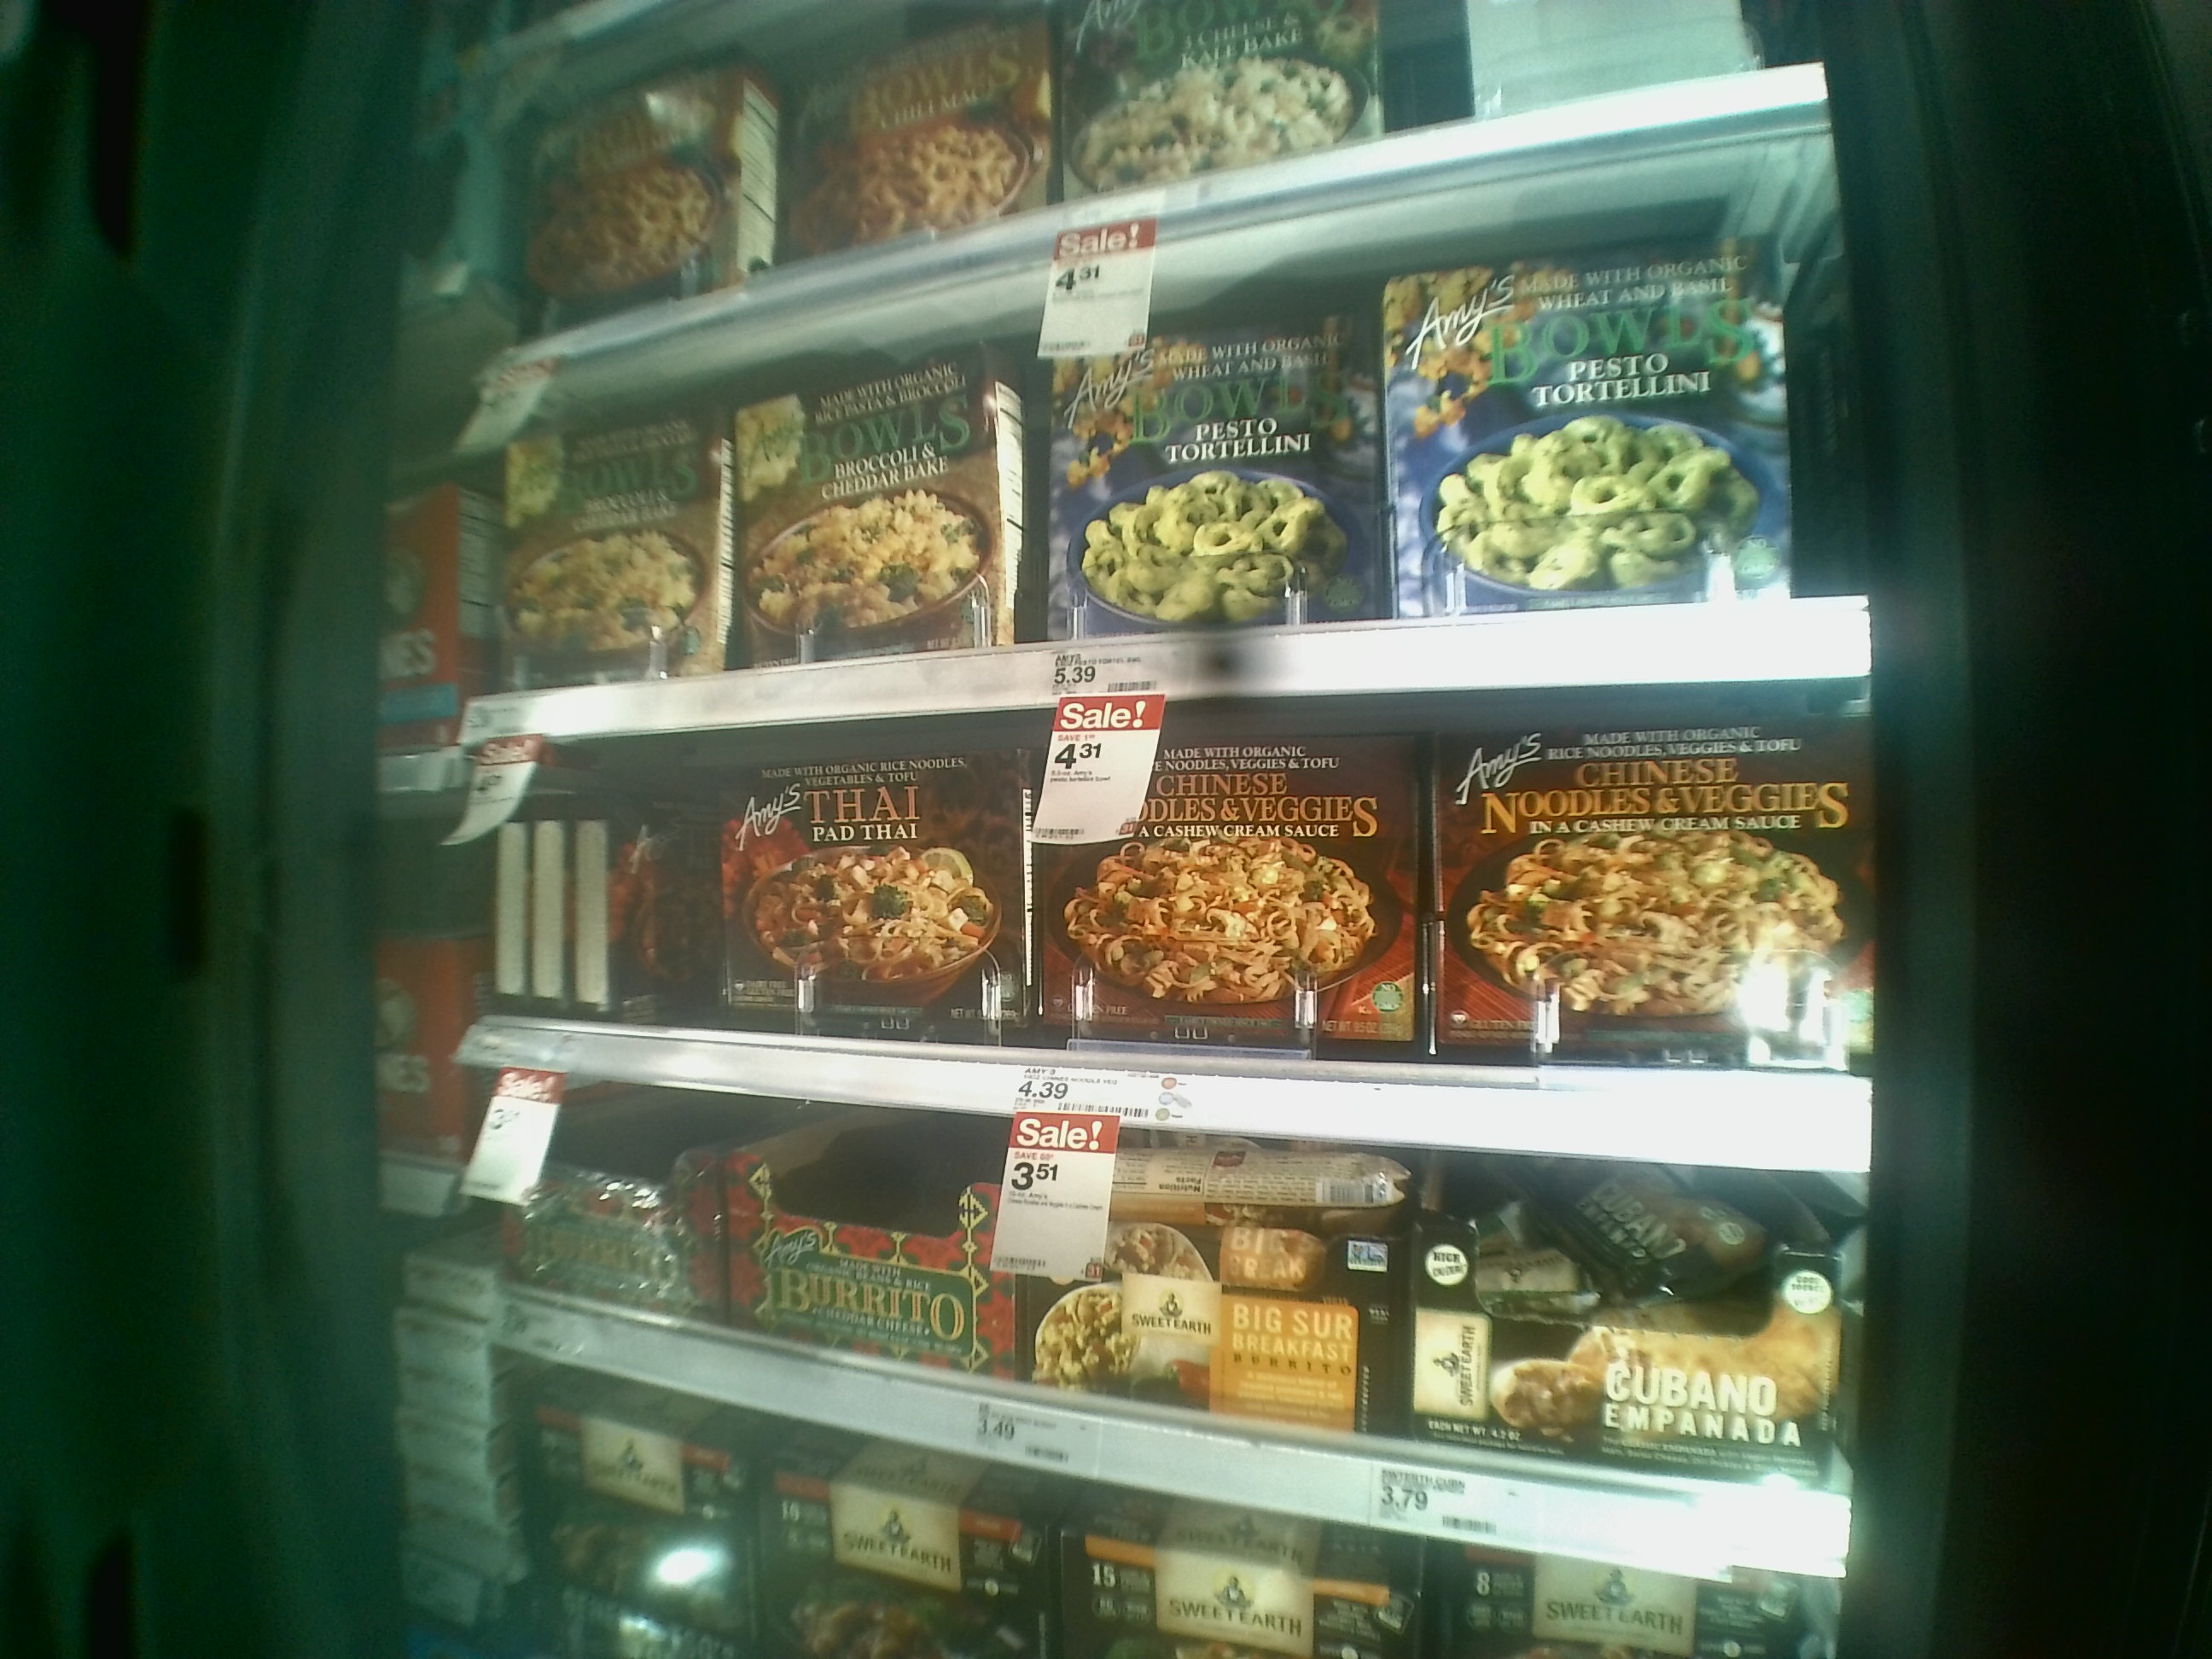shelf: (463, 122, 1871, 742), (455, 1061, 1846, 1575), (463, 688, 1874, 1182)
